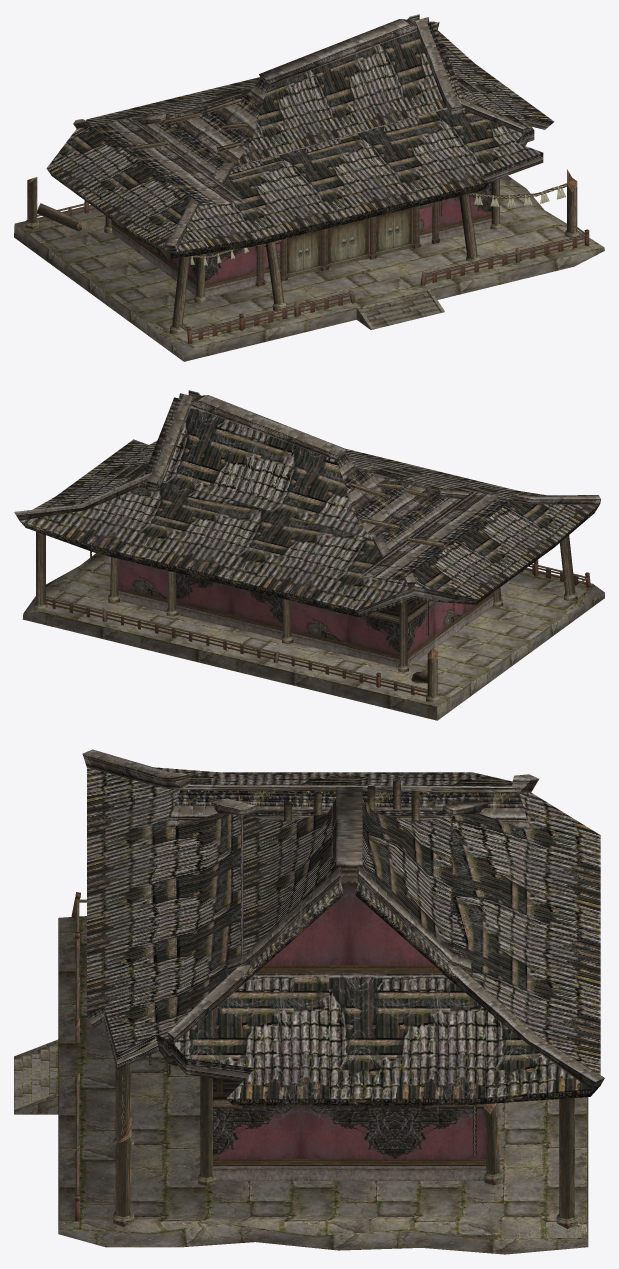
File: Hangzhou_wj_050_1.FBX
The picture shows the model from 3 angles, top to bottom: view 1: azimuth 30°, elevation 25°; view 2: azimuth 150°, elevation 25°; view 3: azimuth 270°, elevation 25°; orthographic projection. The views are drawn at different scales.
Visible parts, largest first — view 1: Object004_pomiao; view 2: Object004_pomiao; view 3: Object004_pomiao.
Boxes of the visible parts, x1,y1,x2,y2 form: Object004_pomiao: (14, 14, 604, 361); Object004_pomiao: (14, 390, 604, 720); Object004_pomiao: (14, 749, 604, 1254).
Size of the model in its own units: 2256 by 967 by 1692.
9 materials, 9 textured.
